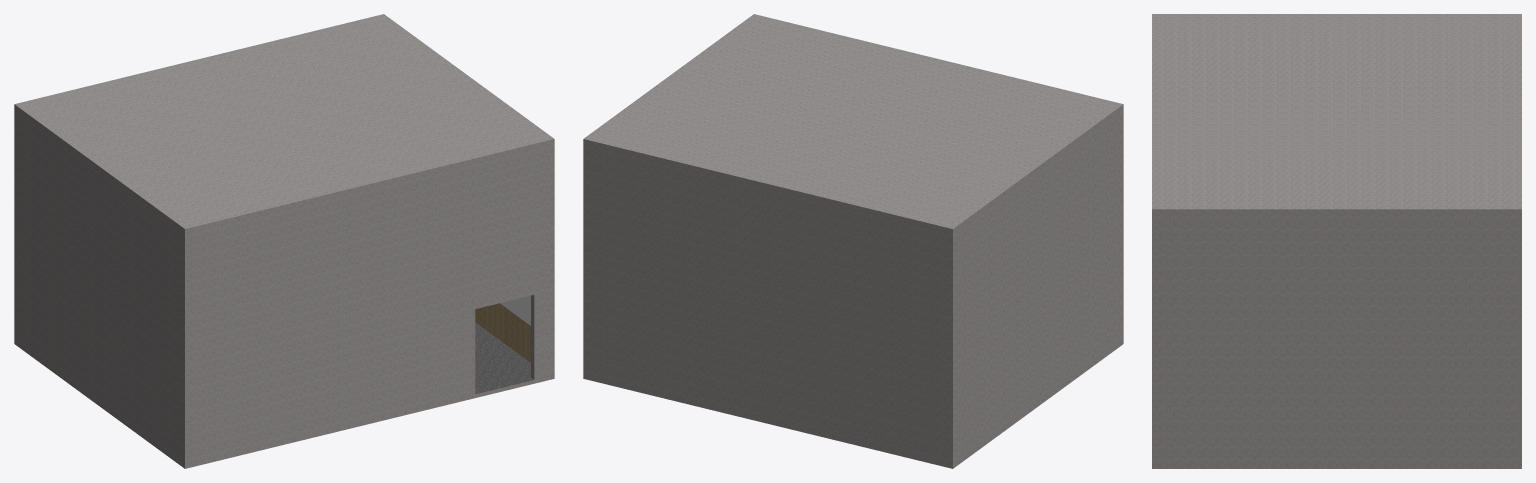
Rendered from SalaComCameras.gltf.
3 views of the same model, side by side, from view 1: azimuth 30°, elevation 25°; view 2: azimuth 150°, elevation 25°; view 3: azimuth 270°, elevation 25° (orthographic). The views are drawn at different scales.
Parts seen in each view (by area): view 1: ParedeExterna, Piso, ParedeINterna; view 2: ParedeExterna; view 3: ParedeExterna.
Boxes of the visible parts, x1,y1,x2,y2 form: ParedeExterna: (14,14,554,468); Piso: (475,322,533,394); ParedeINterna: (475,303,530,362); ParedeExterna: (583,14,1123,468); ParedeExterna: (1152,14,1521,468).
Size of the model in its own units: 394 by 244 by 315.
7 materials, 4 textured.
